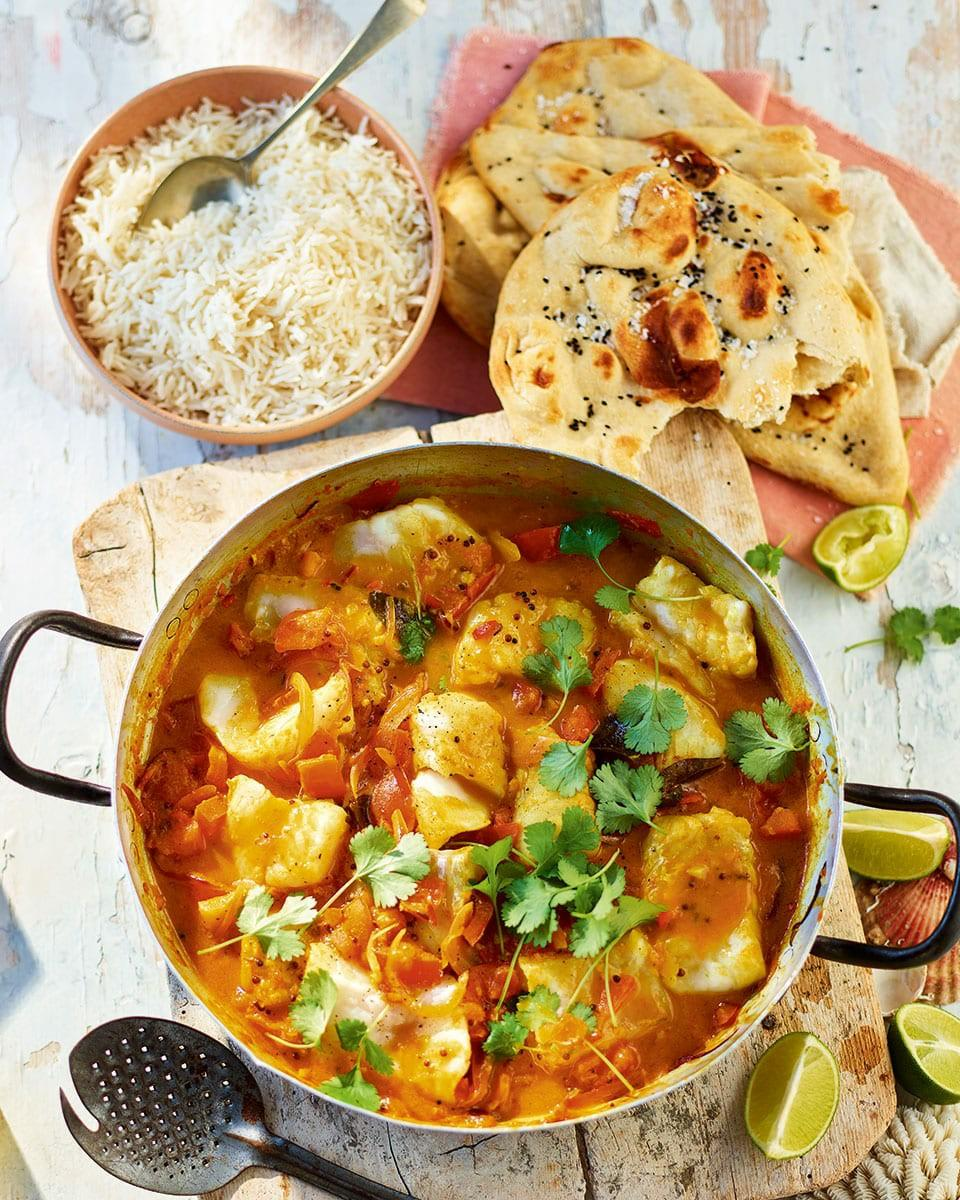FishCurry: (146, 476, 799, 1117)
